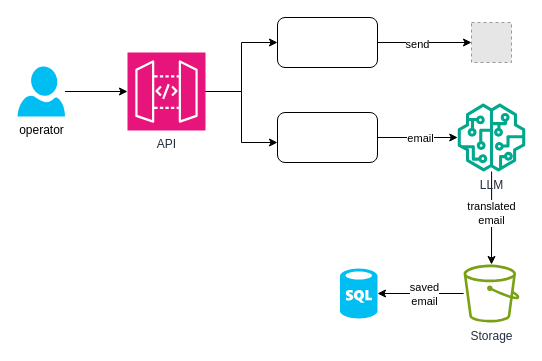
Image size: 542x361. Some labels were removed from this diagram. Grey dashed boxes stand in for pictures. Each missing label, with the centre of its shape:
Email Parser: point (327, 137)
Email Sender: point (327, 42)
